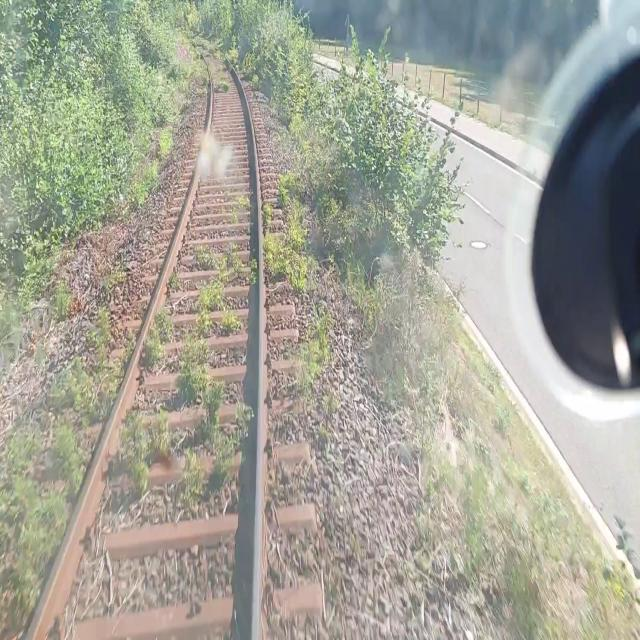Plant: (119, 242, 257, 517), (4, 335, 132, 622), (272, 310, 358, 637), (260, 173, 315, 290), (135, 268, 183, 372), (210, 64, 230, 95)
